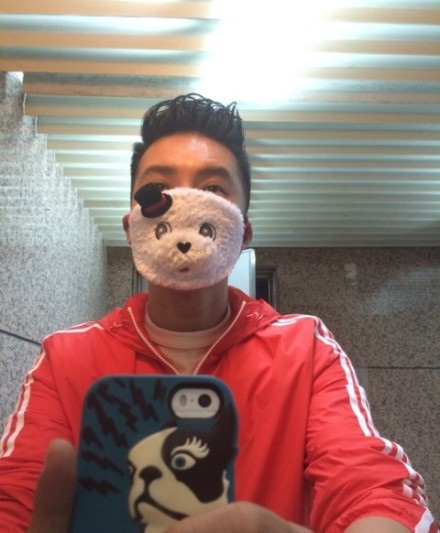face_mask: (131, 131, 244, 287)
